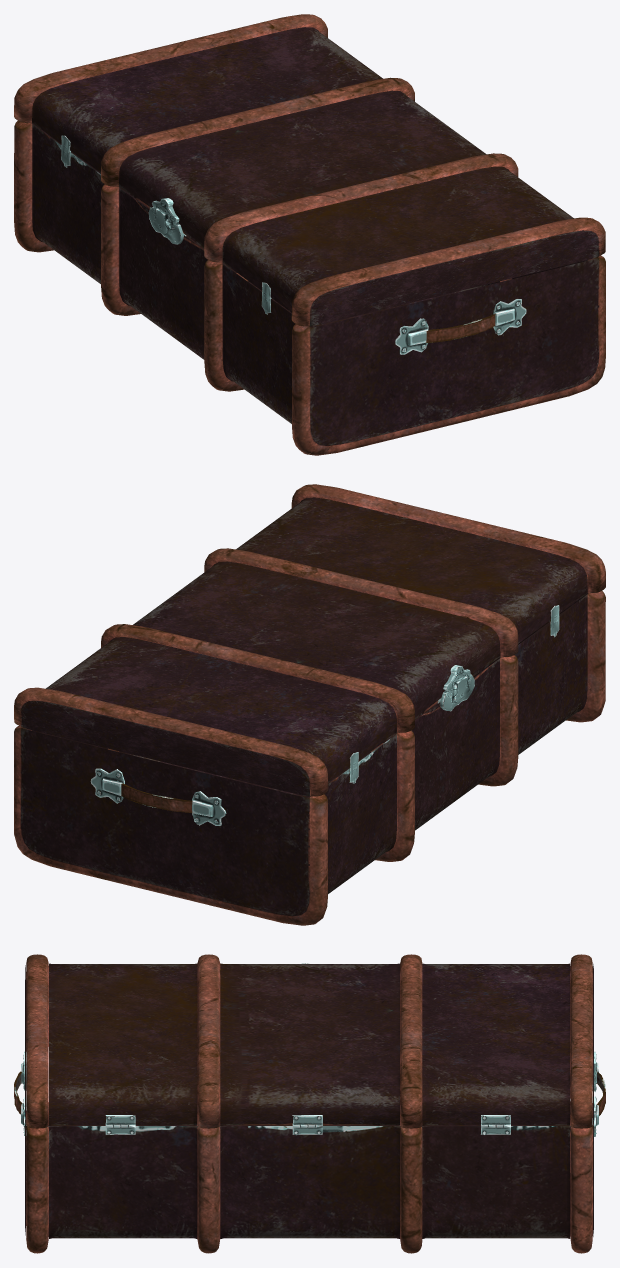
Rendered from Trunk.fbx.
3 views of the same model, one above another, from view 1: azimuth 30°, elevation 25°; view 2: azimuth 150°, elevation 25°; view 3: azimuth 270°, elevation 25° (orthographic). The views are drawn at different scales.
Parts seen in each view (by area): view 1: Trunk.001, Trunk; view 2: Trunk.001, Trunk; view 3: Trunk.001, Trunk.
Part boxes in pixels (x1=…): Trunk.001: x1=14, y1=14, x2=605, y2=326; Trunk: x1=14, y1=121, x2=605, y2=455; Trunk.001: x1=14, y1=484, x2=605, y2=796; Trunk: x1=14, y1=591, x2=605, y2=925; Trunk.001: x1=25, y1=954, x2=593, y2=1128; Trunk: x1=14, y1=1040, x2=605, y2=1253.
Size of the model in its own units: 56.01 by 29.95 by 94.67.
